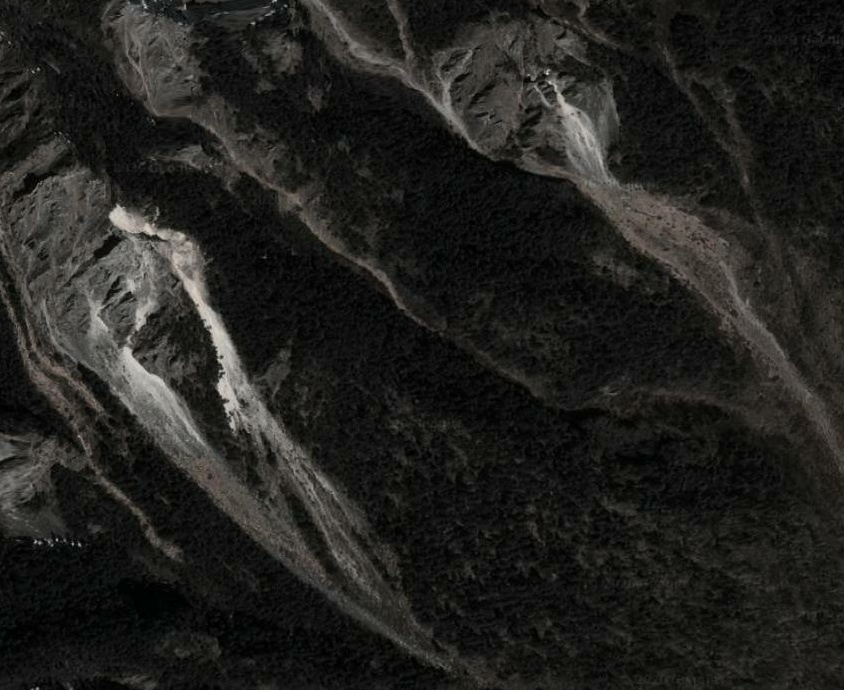slope: (100, 200, 270, 460), (531, 72, 627, 208)
